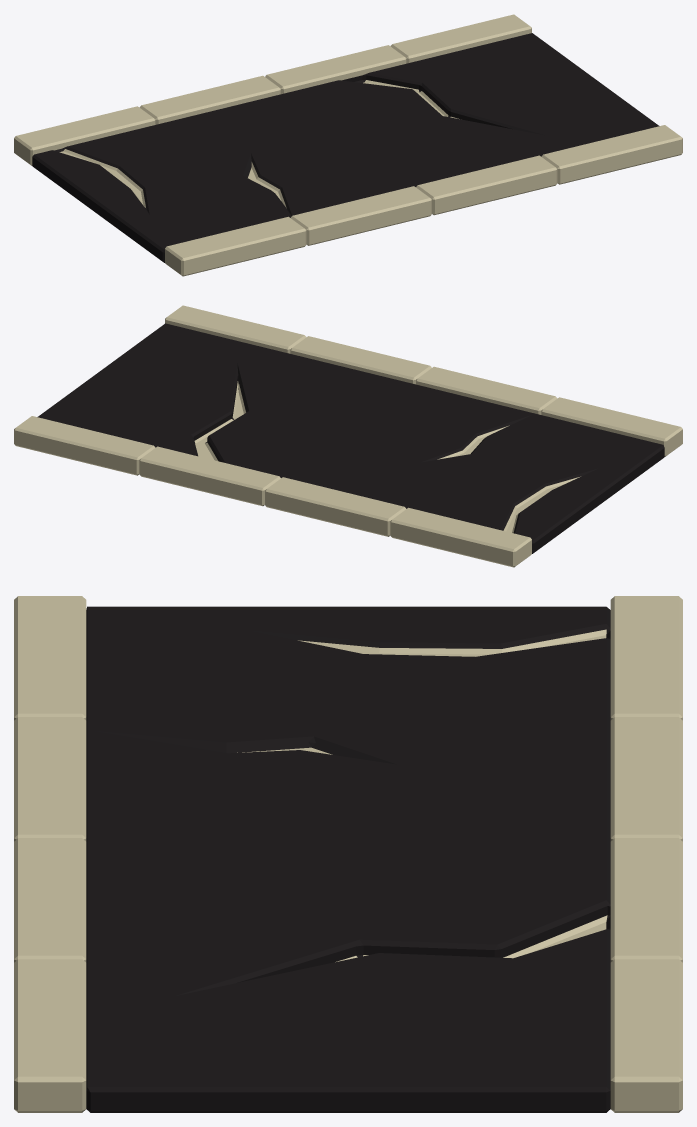
File: brokenroadstraight (6).fbx
3 renders of one model, top to bottom at view 1: azimuth 30°, elevation 25°; view 2: azimuth 150°, elevation 25°; view 3: azimuth 270°, elevation 25°, orthographic. The views are drawn at different scales.
Visible parts, largest first — view 1: düzyol; view 2: düzyol; view 3: düzyol.
Part boxes in pixels (x1=…): düzyol: x1=14, y1=14, x2=682, y2=276; düzyol: x1=14, y1=305, x2=682, y2=567; düzyol: x1=14, y1=596, x2=682, y2=1112.
Size of the model in its own units: 200 by 6.97 by 117.
